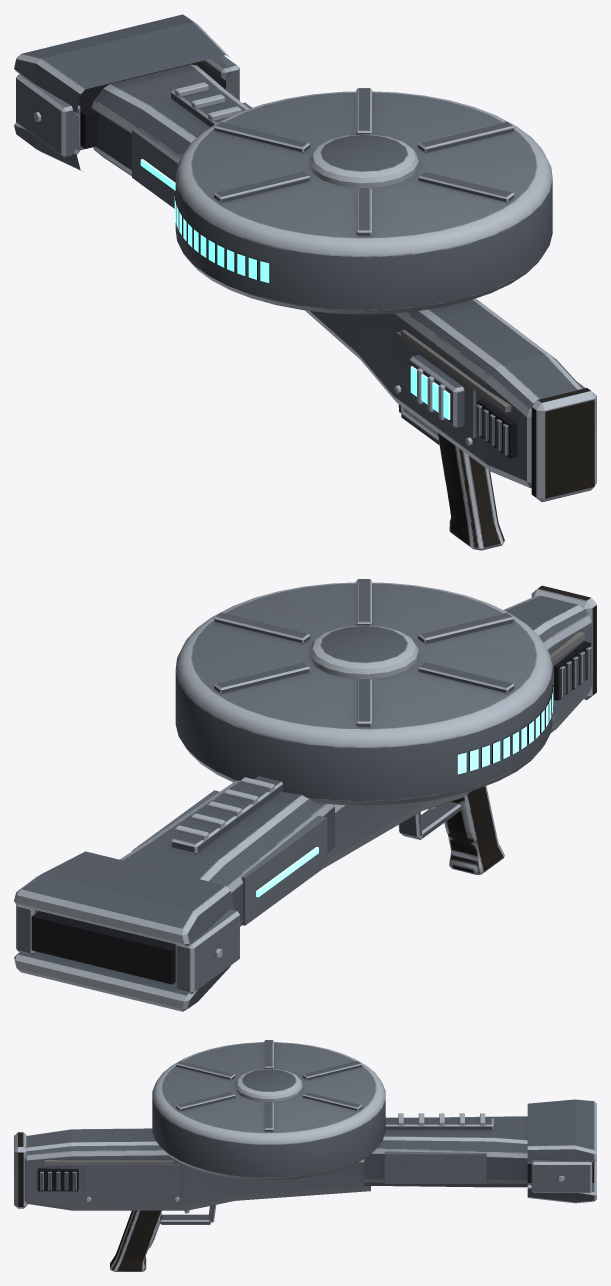
3 renders of one model, top to bottom at view 1: azimuth 30°, elevation 25°; view 2: azimuth 150°, elevation 25°; view 3: azimuth 270°, elevation 25°, orthographic. The views are drawn at different scales.
Parts seen in each view (by area): view 1: body; view 2: body; view 3: body.
Part boxes in pixels (x1,y1,x2,y2): body: (14, 14, 596, 550); body: (14, 579, 596, 1011); body: (14, 1040, 596, 1271).
Size of the model in its own units: 0.3442 by 0.303 by 0.857.
1 material, 1 textured.
